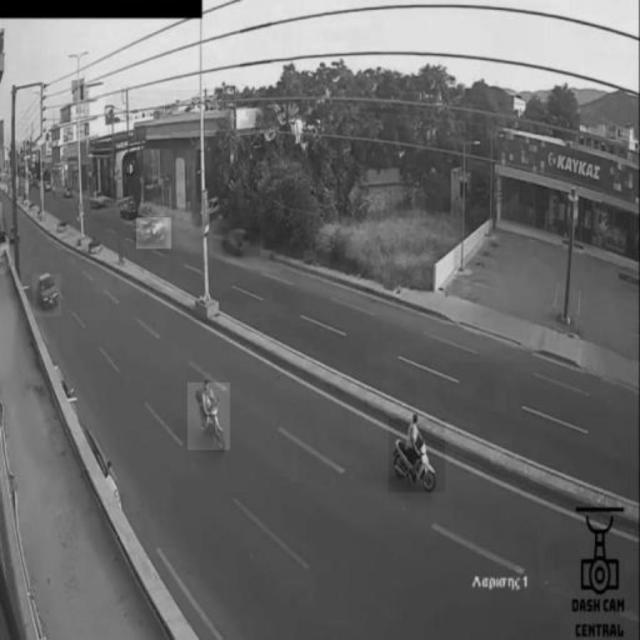accident: (136, 218, 171, 248)
vehicle: (389, 420, 445, 493), (188, 383, 230, 450), (33, 274, 61, 316), (223, 228, 260, 258)
